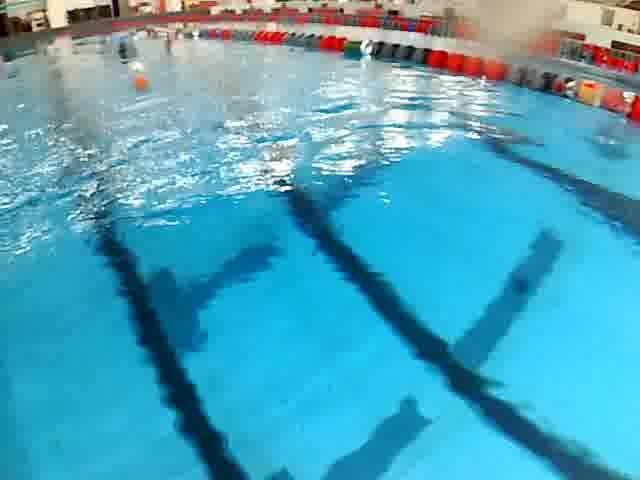Bottle: (544, 65, 640, 131), (122, 53, 158, 99)
